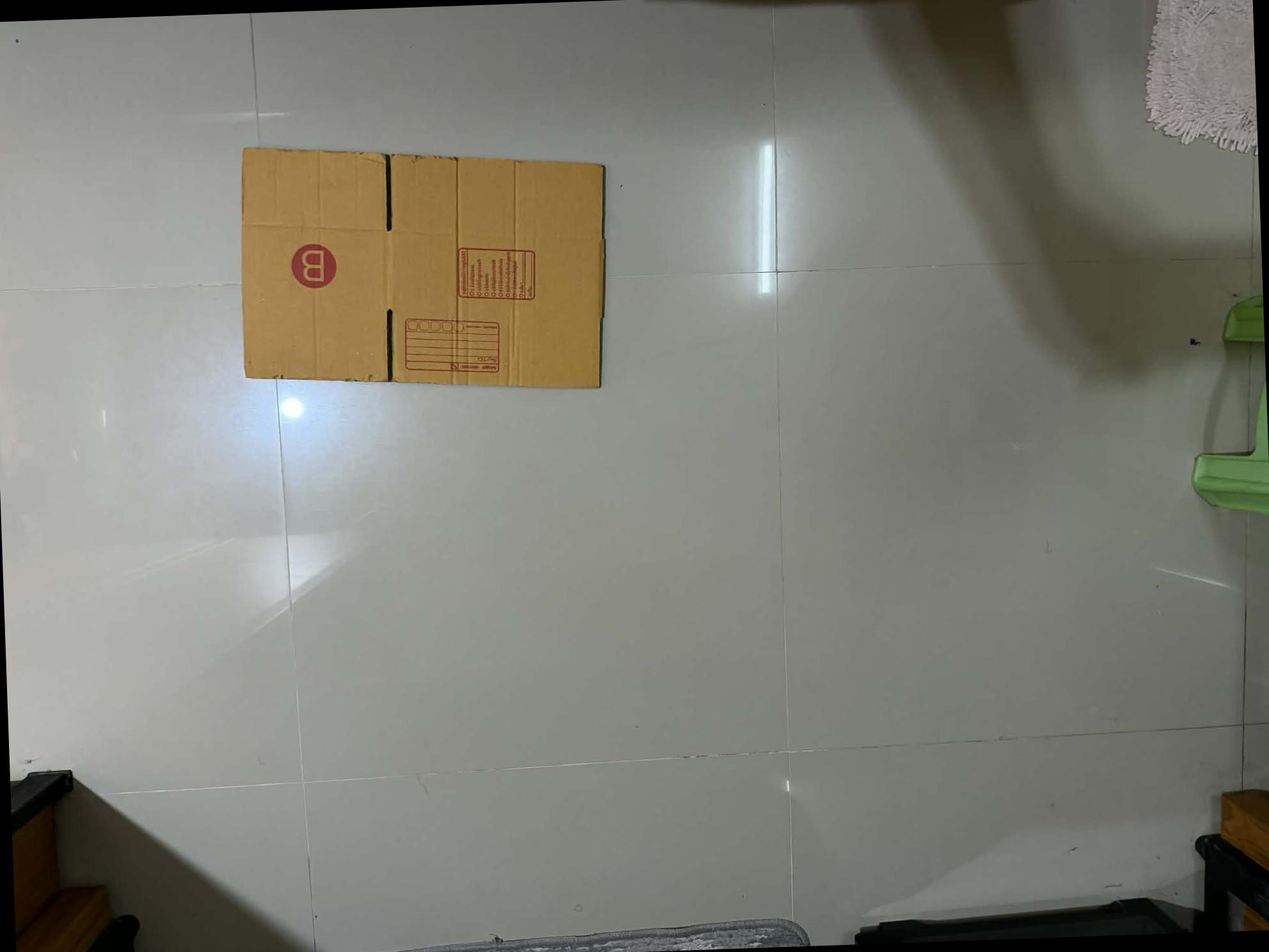box: (400, 311, 506, 385), (455, 243, 540, 305), (290, 243, 336, 290)
class0: (226, 127, 619, 413)
